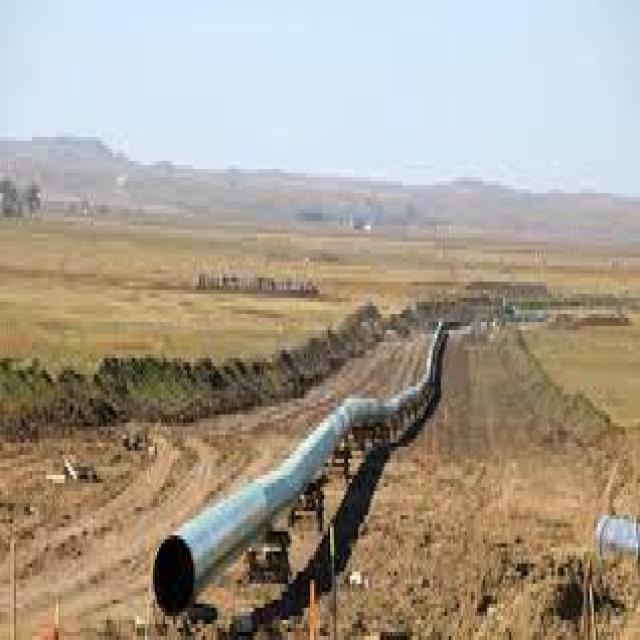gas: (154, 326, 443, 614)
